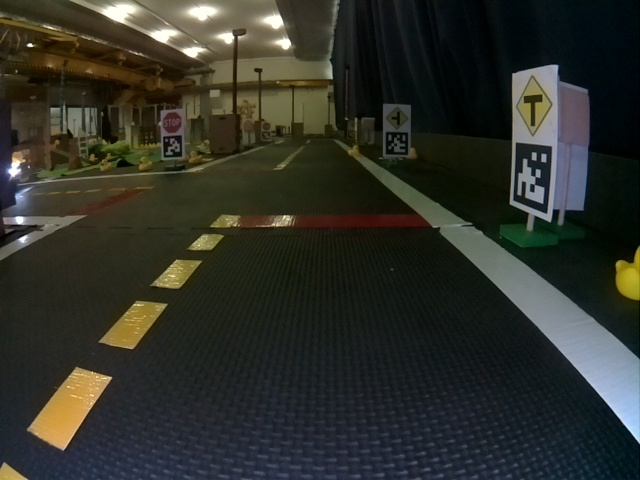Duckie: (613, 248, 639, 302), (138, 157, 152, 171), (100, 159, 110, 171), (348, 145, 359, 155)
Intersection sign: (513, 74, 552, 136), (385, 106, 409, 130)
QR code: (511, 144, 553, 215), (162, 136, 184, 159), (385, 135, 409, 155)
Stop sign: (161, 112, 183, 132)
